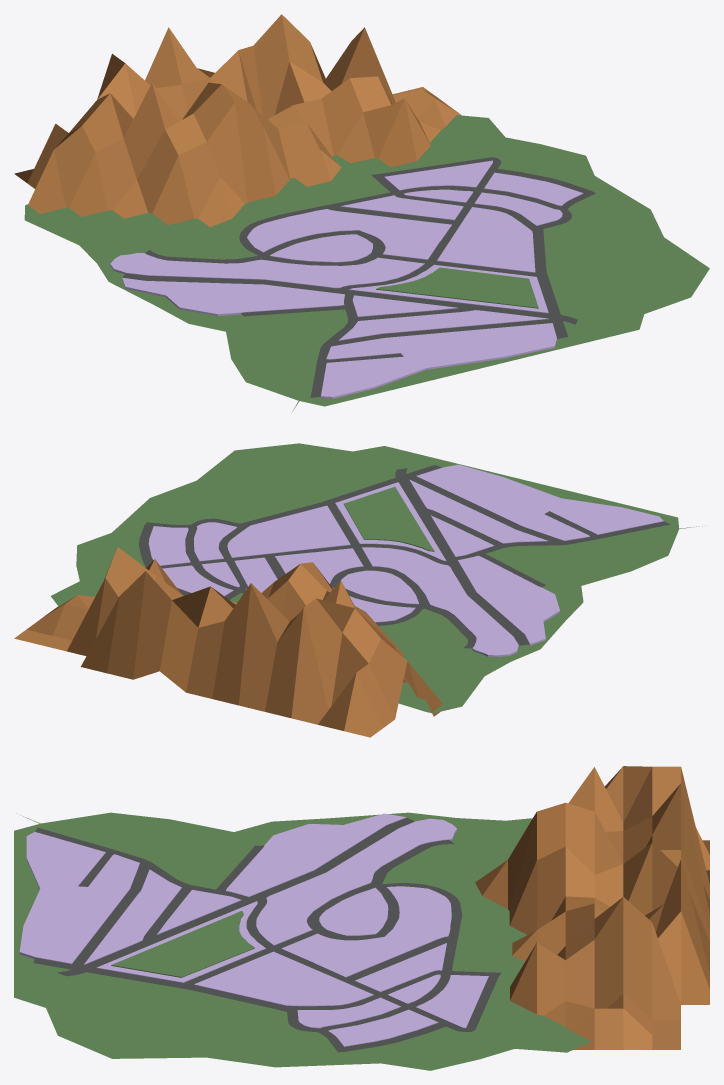
The model's file is MapVersion2.fbx.
The picture shows the model from 3 angles, top to bottom: view 1: azimuth 30°, elevation 25°; view 2: azimuth 150°, elevation 25°; view 3: azimuth 270°, elevation 25°; orthographic projection. The views are drawn at different scales.
Visible parts, largest first — view 1: Mountains, Base Plane For map, Roads, Curb Area 13, Curb Area 3, Curb Area 1, Curb Area 14, Curb Area 9, Park Area, Curb Area 12, Extra road, Curb Area 2 (+7 smaller); view 2: Mountains, Base Plane For map, Roads, Curb Area 13, Curb Area 3, Curb Area 14, Curb Area 9, Park Area, Curb Area 1, Curb Area 12, Extra road, Curb Area 2 (+7 smaller); view 3: Base Plane For map, Mountains, Roads, Curb Area 13, Curb Area 3, Curb Area 1, Curb Area 14, Curb Area 9, Park Area, Curb Area 12, Extra road, Curb Area 2 (+7 smaller).
Boxes of the visible parts, <box> form: Mountains: <box>14,14,461,227</box>; Base Plane For map: <box>24,115,709,411</box>; Roads: <box>122,157,595,397</box>; Curb Area 13: <box>321,323,556,398</box>; Curb Area 3: <box>110,253,424,288</box>; Curb Area 1: <box>247,209,451,259</box>; Curb Area 14: <box>122,277,344,315</box>; Curb Area 9: <box>437,207,535,272</box>; Park Area: <box>376,267,538,308</box>; Curb Area 12: <box>338,310,548,340</box>; Extra road: <box>371,173,567,338</box>; Curb Area 2: <box>270,234,372,262</box>; Mountains: <box>14,547,442,737</box>; Base Plane For map: <box>51,443,705,713</box>; Roads: <box>138,468,670,648</box>; Curb Area 13: <box>416,464,663,540</box>; Curb Area 3: <box>361,547,518,656</box>; Curb Area 14: <box>458,555,559,645</box>; Curb Area 9: <box>227,505,350,557</box>; Park Area: <box>344,487,434,551</box>; Curb Area 1: <box>275,548,415,622</box>; Curb Area 12: <box>409,479,548,543</box>; Extra road: <box>218,465,441,599</box>; Curb Area 2: <box>341,570,418,604</box>; Base Plane For map: <box>14,812,590,1070</box>; Mountains: <box>475,766,709,1049</box>; Roads: <box>35,817,499,1052</box>; Curb Area 13: <box>19,832,139,964</box>; Curb Area 3: <box>256,818,457,945</box>; Curb Area 1: <box>281,886,451,977</box>; Curb Area 14: <box>226,813,406,897</box>; Curb Area 9: <box>194,951,373,1006</box>; Park Area: <box>111,910,254,977</box>; Curb Area 12: <box>84,869,181,964</box>; Extra road: <box>33,957,500,1012</box>; Curb Area 2: <box>319,887,388,935</box>.
Bounding box in the file's own units: 90080 × 22558 × 102588.
